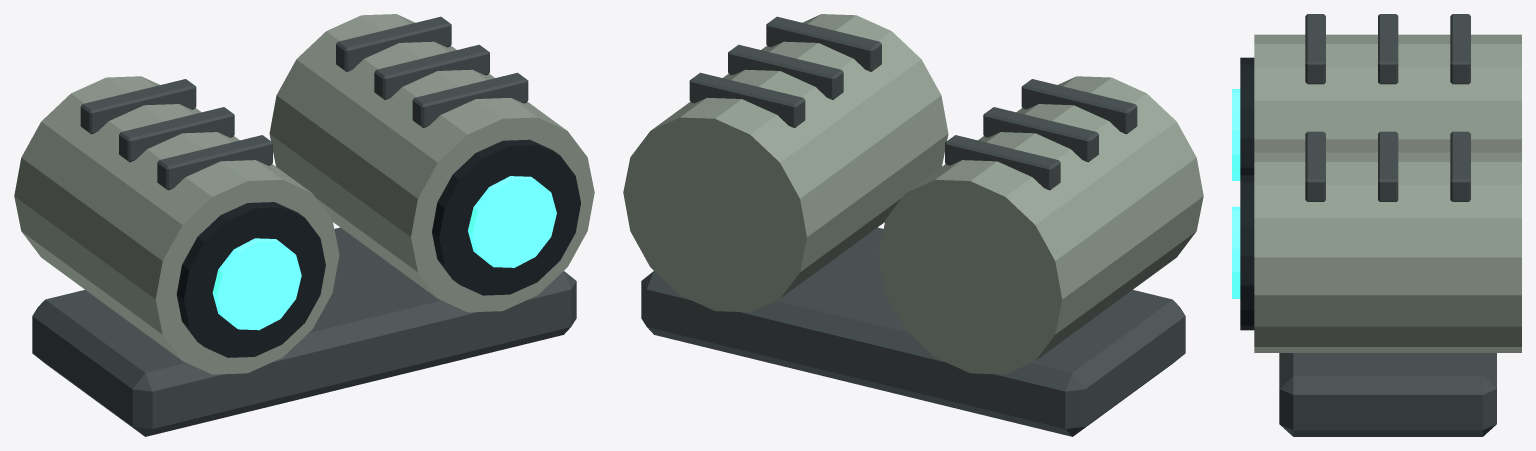
Rendered from acc_turbopack.glb.
3 renders of one model, left to right at view 1: azimuth 30°, elevation 25°; view 2: azimuth 150°, elevation 25°; view 3: azimuth 270°, elevation 25°, orthographic. The views are drawn at different scales.
Parts seen in each view (by area): view 1: acc_turbopack_ArmorEdges.008, acc_turbopack_RunningGear.008, acc_turbopack_BallSeams.003, acc_turbopack_Neon.003; view 2: acc_turbopack_ArmorEdges.008, acc_turbopack_RunningGear.008; view 3: acc_turbopack_ArmorEdges.008, acc_turbopack_RunningGear.008, acc_turbopack_BallSeams.003, acc_turbopack_Neon.003.
Boxes of the visible parts, x1=… form: acc_turbopack_ArmorEdges.008: x1=14, y1=14, x2=594, y2=374; acc_turbopack_RunningGear.008: x1=32, y1=16, x2=576, y2=436; acc_turbopack_BallSeams.003: x1=176, y1=139, x2=580, y2=357; acc_turbopack_Neon.003: x1=212, y1=176, x2=556, y2=330; acc_turbopack_ArmorEdges.008: x1=623, y1=14, x2=1203, y2=374; acc_turbopack_RunningGear.008: x1=641, y1=16, x2=1185, y2=436; acc_turbopack_ArmorEdges.008: x1=1254, y1=34, x2=1521, y2=352; acc_turbopack_RunningGear.008: x1=1279, y1=14, x2=1496, y2=436; acc_turbopack_BallSeams.003: x1=1240, y1=57, x2=1254, y2=330; acc_turbopack_Neon.003: x1=1232, y1=89, x2=1240, y2=298.
Size of the model in its own units: 0.87 by 0.4825 by 0.52.
